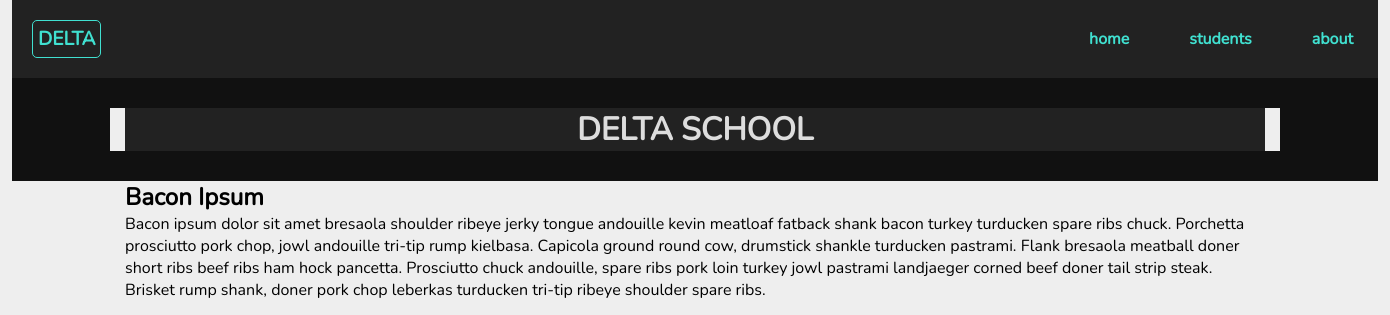
App pages navigation › Students
The width and height of the screenshot is (1390, 315).
Click the link "students".
click(1220, 39)  # box [1189,28,1252,50]
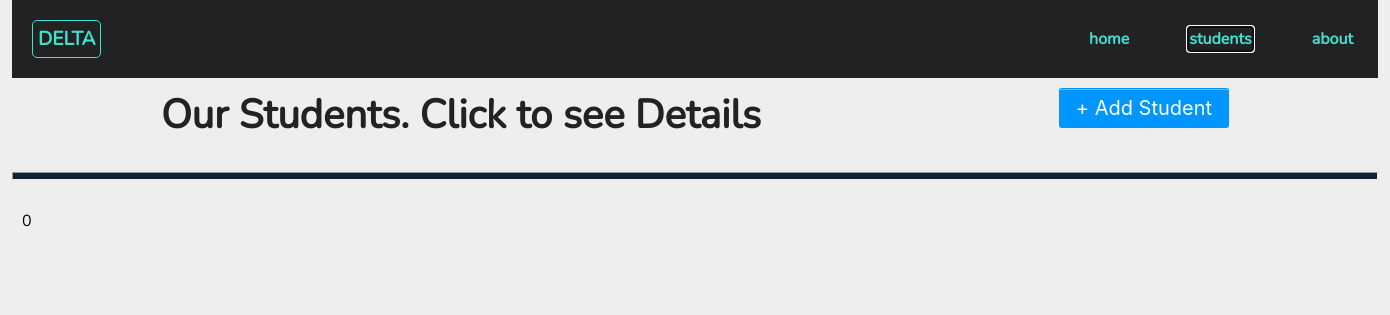
Check: the element with test id "students-comp" is shown, box [12,78,1378,232]
